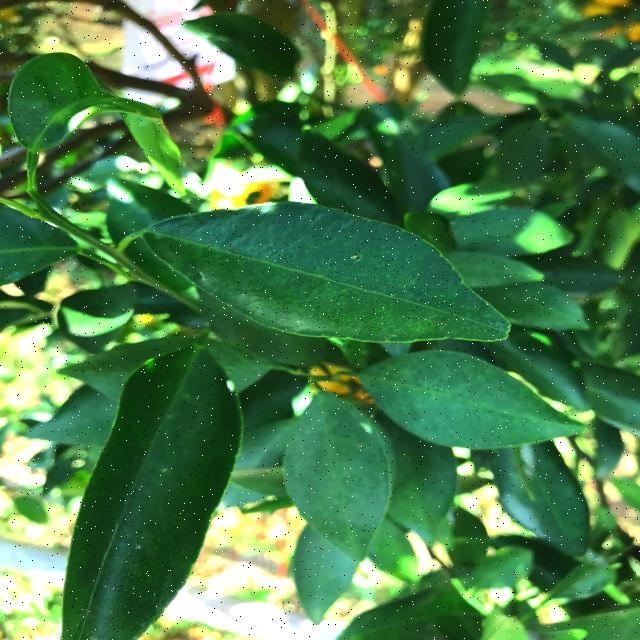healthy: (20, 352, 256, 640), (158, 210, 498, 350), (8, 49, 190, 188), (353, 350, 582, 452), (283, 397, 389, 554)
